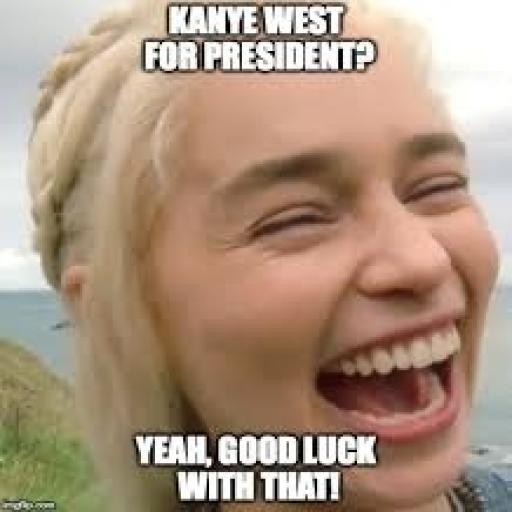laughing: (18, 0, 510, 510)
